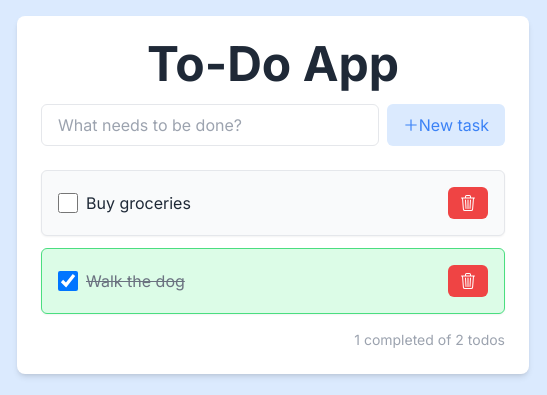
Test: renders the number of completed todos after changing the state
Click the checkbox labelled "Buy groceries".
click(68, 203)  # box [58,193,78,213]
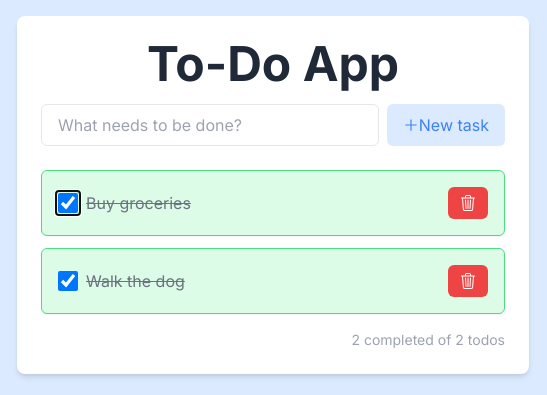
Now the text with test id "summary" shows "2 completed", box [351,330,505,350]
